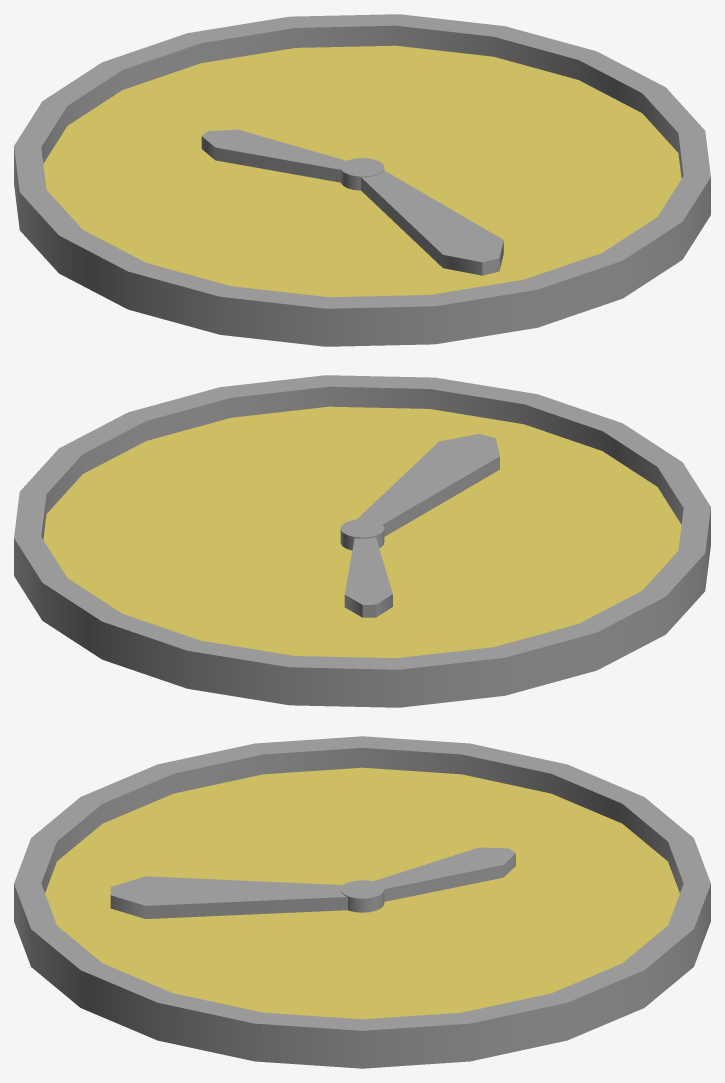
The model's file is clock2.fbx.
3 renders of one model, top to bottom at view 1: azimuth 30°, elevation 25°; view 2: azimuth 150°, elevation 25°; view 3: azimuth 270°, elevation 25°, orthographic.
Visible parts, largest first — view 1: pCylinder2, pCylinder1, pCube1, pCube2, pCylinder3; view 2: pCylinder2, pCylinder1, pCube1, pCube2, pCylinder3; view 3: pCylinder2, pCylinder1, pCube1, pCube2, pCylinder3.
Part boxes in pixels (<box>): pCylinder2: <box>43,45,681,297</box>; pCylinder1: <box>14,14,710,346</box>; pCube1: <box>361,170,503,275</box>; pCube2: <box>201,129,346,182</box>; pCylinder3: <box>340,158,384,190</box>; pCylinder2: <box>43,406,681,658</box>; pCylinder1: <box>14,375,710,707</box>; pCube1: <box>357,434,499,536</box>; pCube2: <box>344,537,392,617</box>; pCylinder3: <box>340,519,384,550</box>; pCylinder2: <box>45,767,679,1019</box>; pCylinder1: <box>14,736,710,1068</box>; pCube1: <box>110,876,347,918</box>; pCube2: <box>373,847,515,901</box>; pCylinder3: <box>340,880,384,912</box>.
Bounding box in the file's own units: 14.13 × 0.8468 × 14.13.
